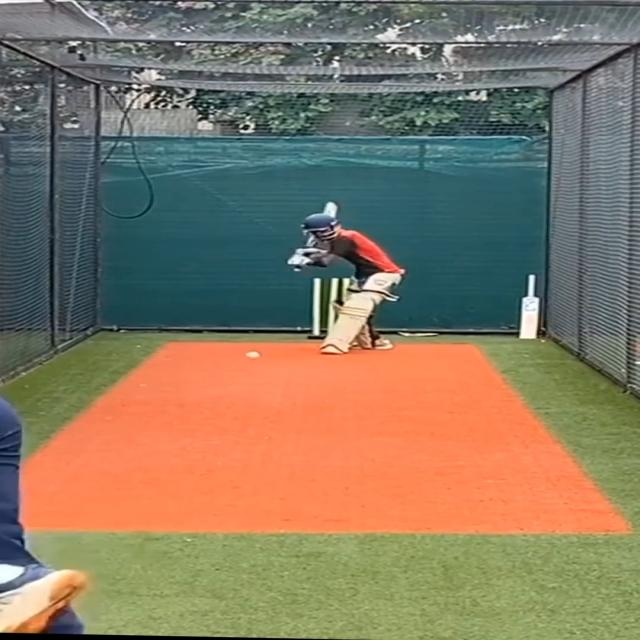ball: (244, 350, 263, 361)
stump: (309, 276, 353, 338)
